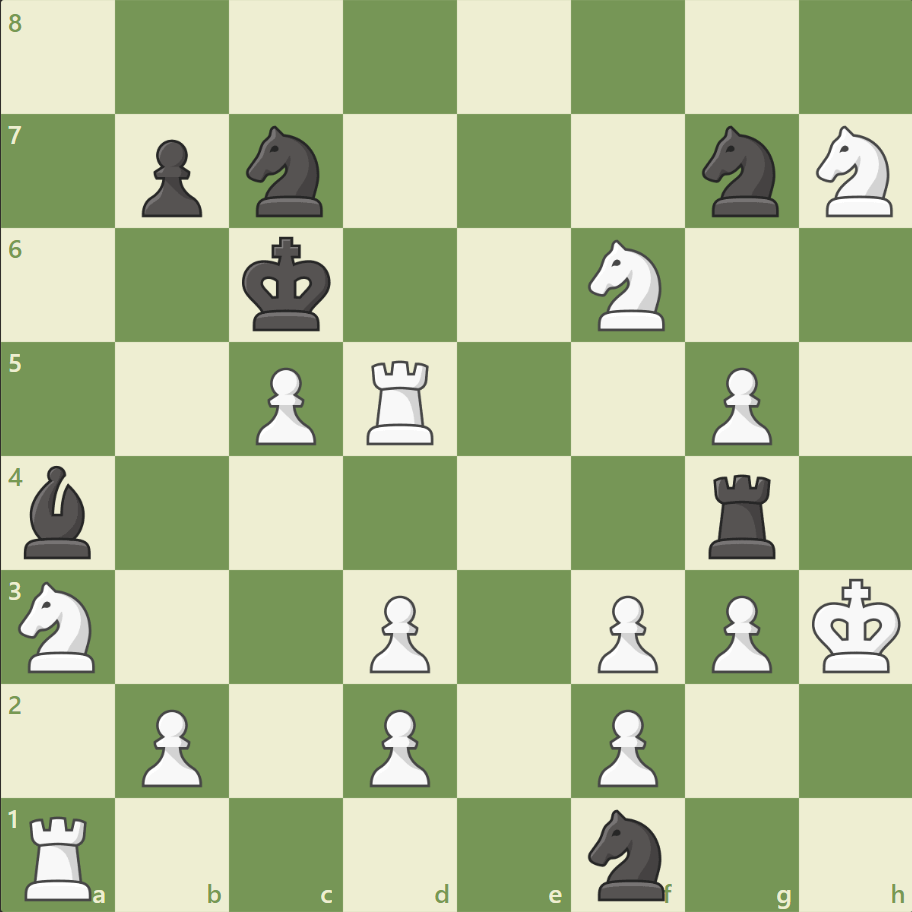K: (806, 571, 906, 679)
N: (579, 234, 676, 337), (806, 121, 903, 223), (11, 575, 108, 677)
P: (247, 359, 322, 450), (701, 359, 776, 450), (701, 586, 776, 677), (133, 700, 208, 791), (361, 586, 435, 677), (588, 586, 662, 677), (361, 700, 435, 791), (588, 700, 662, 791)
R: (19, 806, 102, 904), (360, 352, 442, 449)
b: (17, 460, 101, 563)
k: (238, 231, 338, 339)
n: (238, 121, 335, 223), (692, 121, 789, 223), (579, 802, 676, 904)
p: (133, 132, 208, 223)
r: (700, 466, 783, 563)
